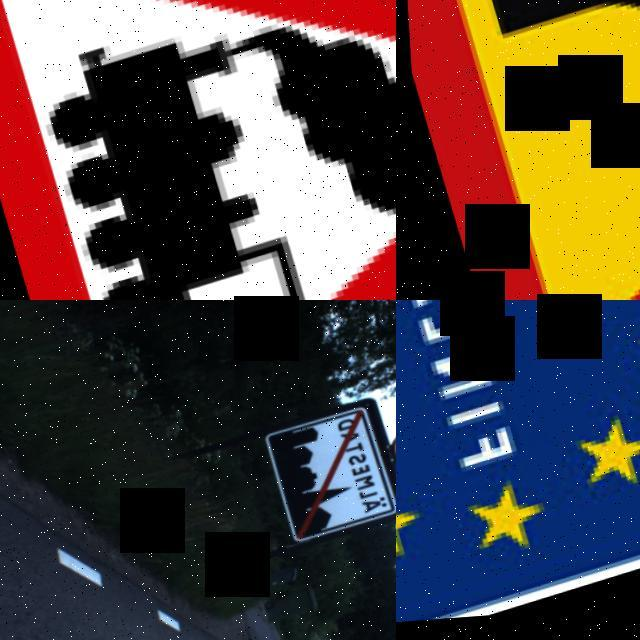128: (253, 403, 396, 554)
137: (396, 0, 640, 300)
55: (378, 422, 396, 489)
National border: (396, 300, 640, 640)
Unguarded level crossing ahead: (0, 0, 396, 300)
